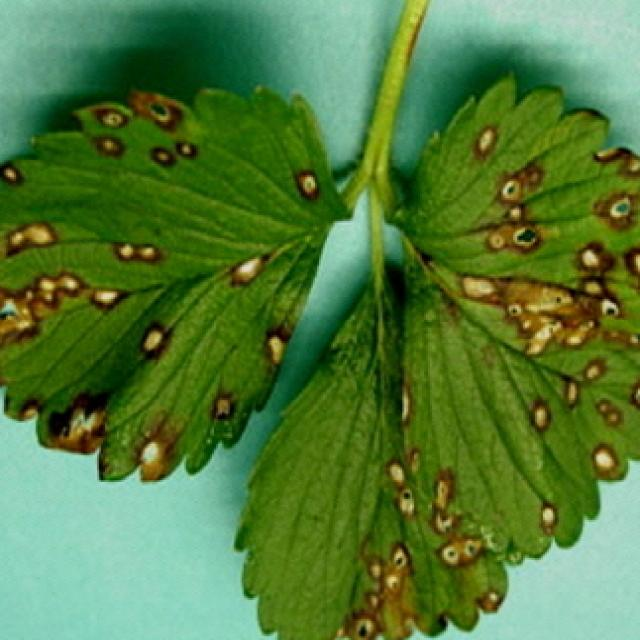Leaf Spot: (0, 78, 357, 484), (379, 66, 640, 568), (228, 272, 510, 640)
